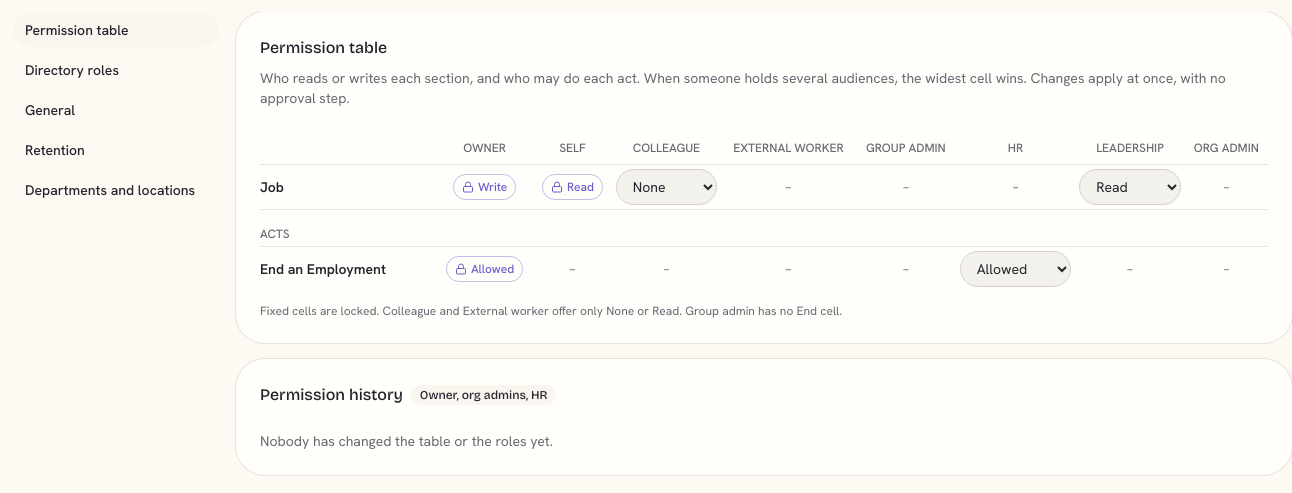
it: DirectorySettings › the General and Read log panels › leaves the Read log out for HR who is not an org admin, and shows them the retention periods
Expected: the button "General" is shown, [12,92,220,128]
Click the button "Retention" at (116, 150), box [12,132,220,168]
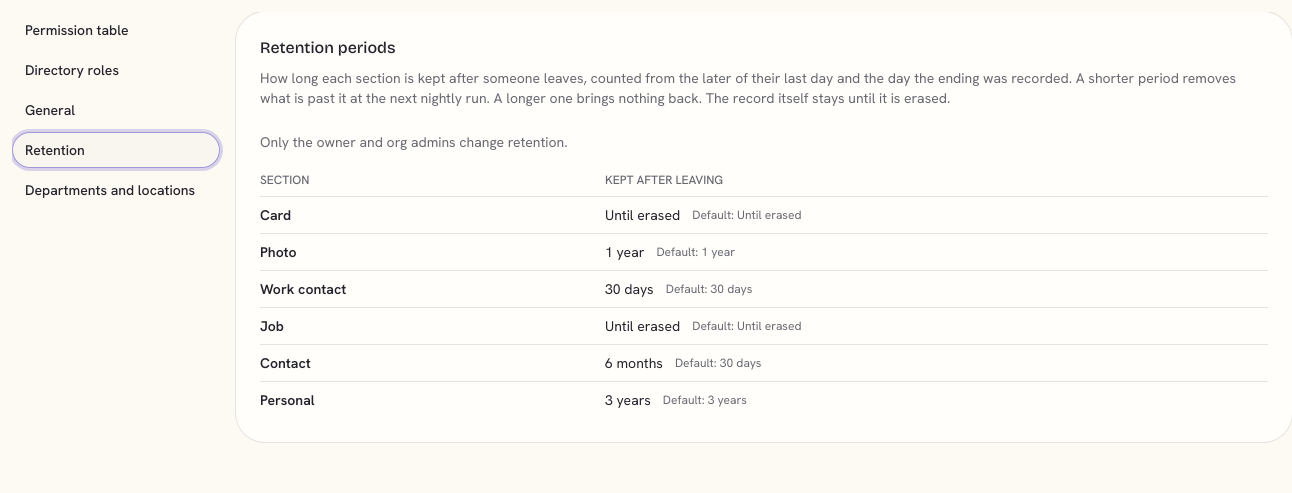
Expected: the text "Retention periods" is shown, [260,38,396,57]
Expected: the text "6 months" is shown, [605,353,663,373]
